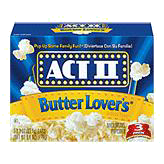grozi_58: (7, 21, 155, 141)
